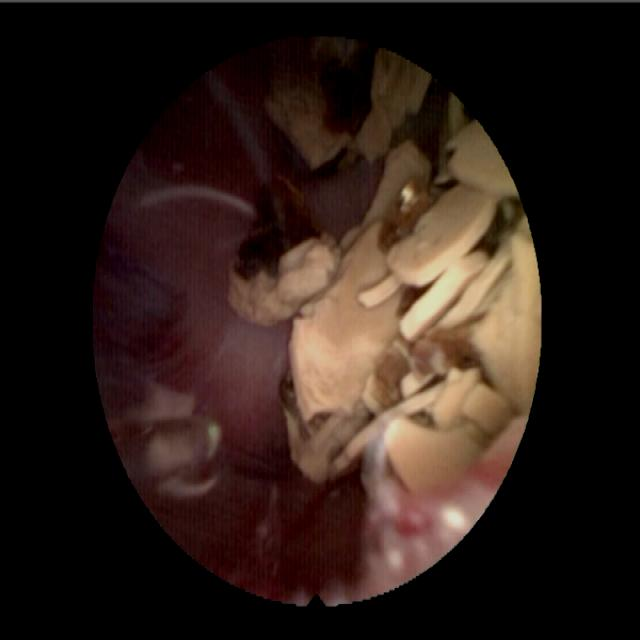stone: (280, 97, 536, 490), (263, 43, 426, 168), (224, 176, 339, 323)
tissue: (100, 59, 487, 599)
